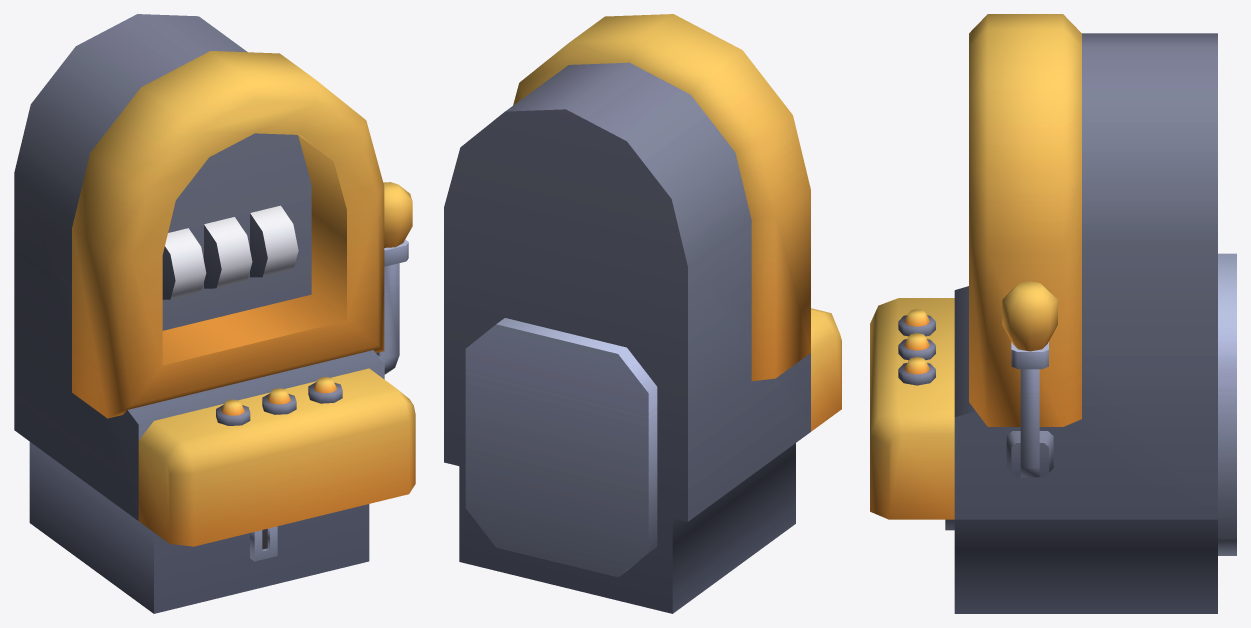
Rendered from slot-machine.glb.
3 renders of one model, left to right at view 1: azimuth 30°, elevation 25°; view 2: azimuth 150°, elevation 25°; view 3: azimuth 270°, elevation 25°, orthographic. The views are drawn at different scales.
Visible parts, largest first — view 1: gambling-machine; view 2: gambling-machine; view 3: gambling-machine.
Part boxes in pixels (x1,y1,x2,y2): gambling-machine: [14, 14, 415, 613]; gambling-machine: [444, 14, 841, 613]; gambling-machine: [870, 14, 1236, 613].
Bounding box in the file's own units: 0.5245 × 0.7759 × 0.4875.
Materials: 1 (1 with a texture image).
